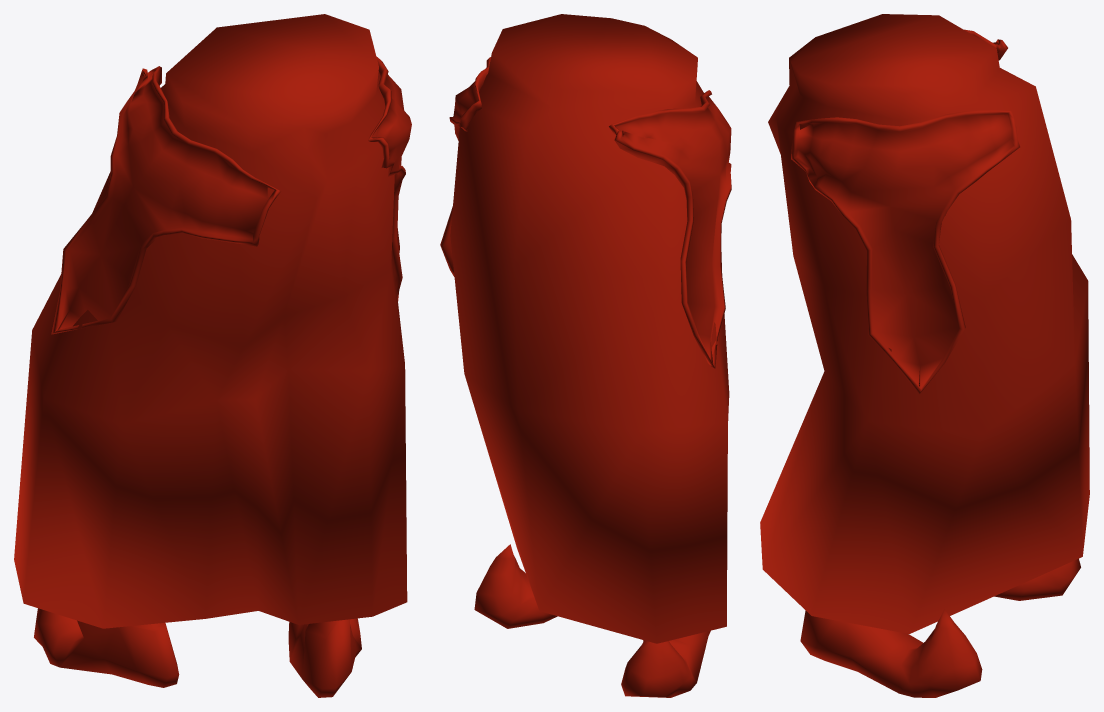
The model's file is bot_000071.obj.
3 renders of one model, left to right at view 1: azimuth 30°, elevation 25°; view 2: azimuth 150°, elevation 25°; view 3: azimuth 270°, elevation 25°, orthographic. The views are drawn at different scales.
Visible parts, largest first — view 1: LowPoly_Warlock.004_Plane.004; view 2: LowPoly_Warlock.004_Plane.004; view 3: LowPoly_Warlock.004_Plane.004.
Boxes of the visible parts, bbox=[...] form: LowPoly_Warlock.004_Plane.004: bbox=[14, 14, 411, 697]; LowPoly_Warlock.004_Plane.004: bbox=[440, 14, 731, 697]; LowPoly_Warlock.004_Plane.004: bbox=[760, 14, 1089, 697].
Bounding box in the file's own units: 0.6052 × 1.08 × 0.5287.
